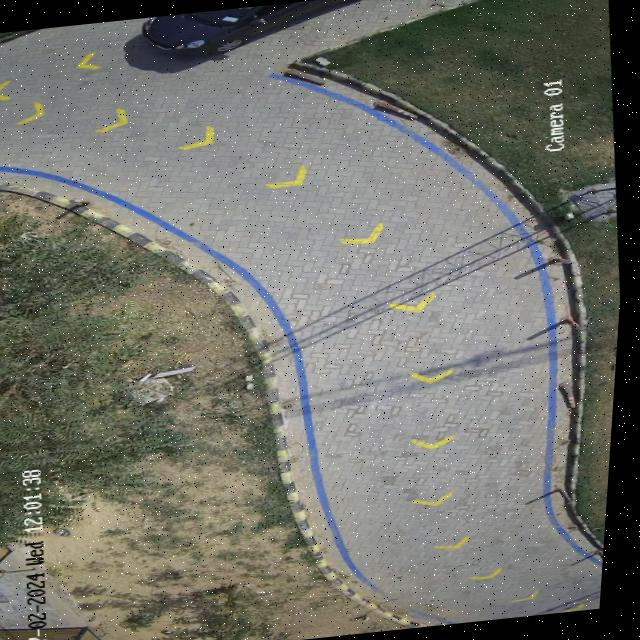car: (142, 0, 355, 53)
